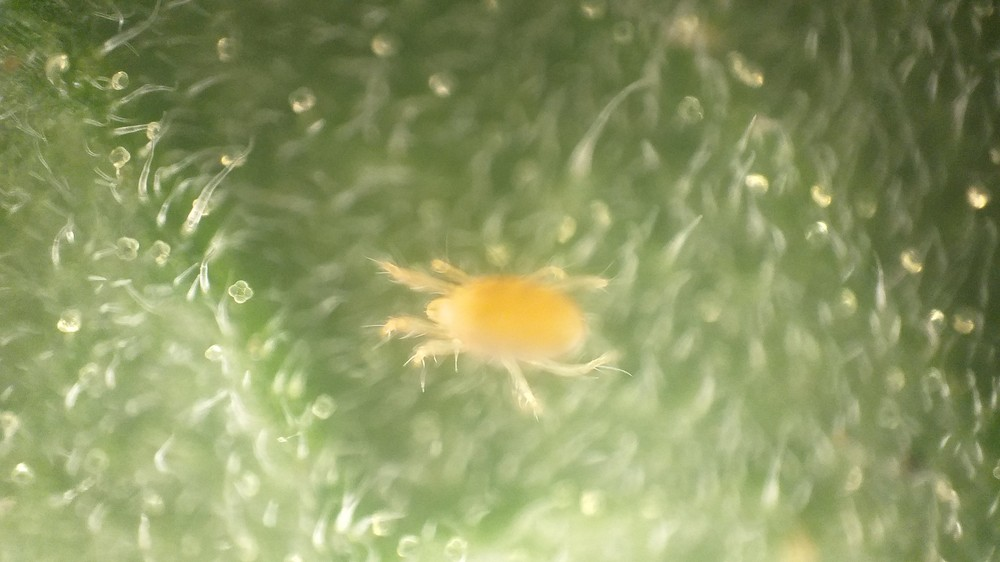Aracnido Rojo: (350, 213, 644, 431)
